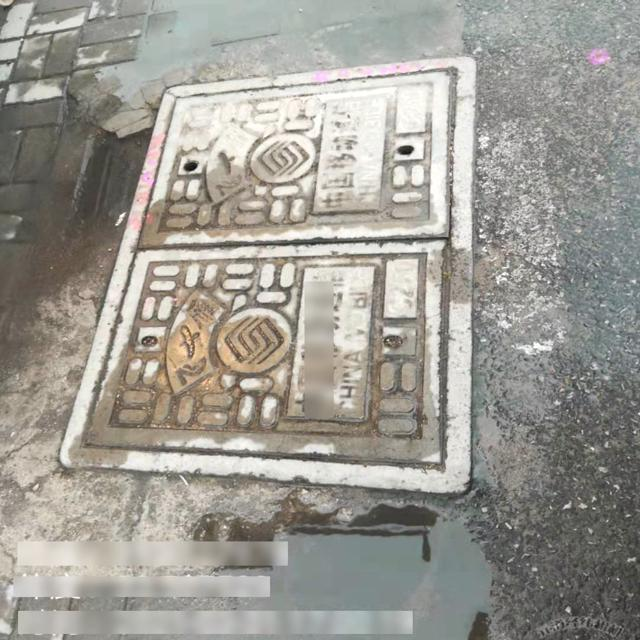good: (57, 55, 478, 496)
